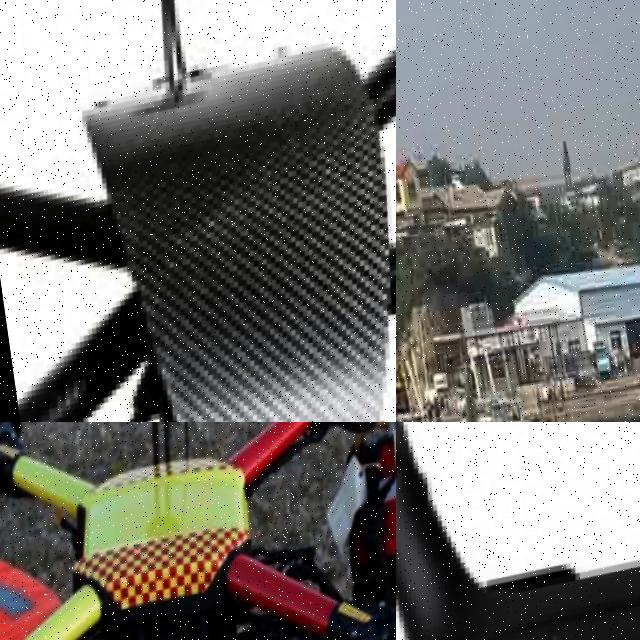drone: (0, 0, 396, 422), (0, 422, 396, 640), (396, 422, 640, 640)
